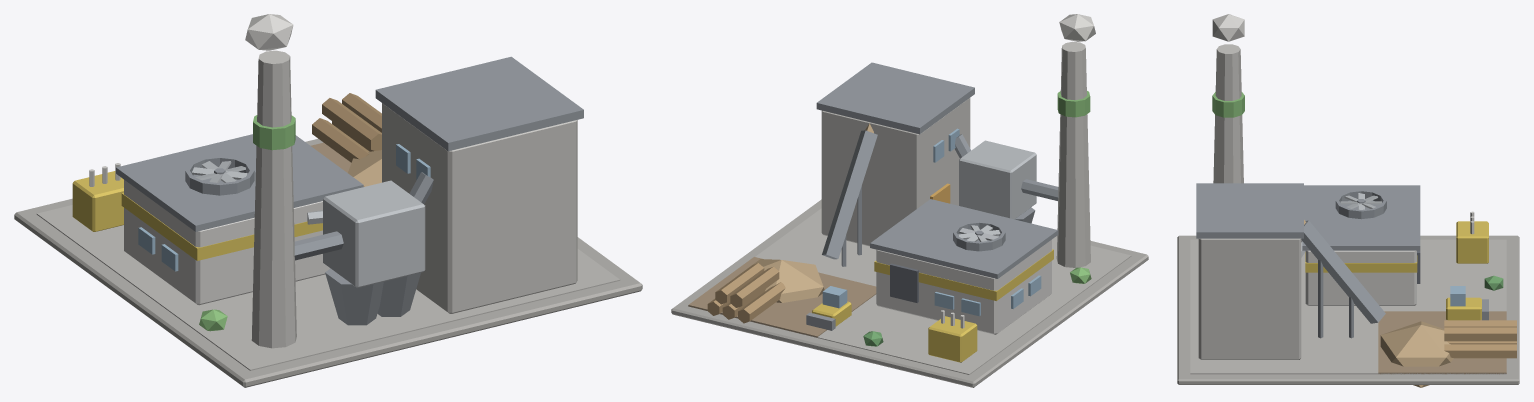
The model's file is energia__usina_biomassa.glb.
3 renders of one model, left to right at view 1: azimuth 30°, elevation 25°; view 2: azimuth 150°, elevation 25°; view 3: azimuth 270°, elevation 25°, orthographic. The views are drawn at different scales.
Parts seen in each view (by area): view 1: energia__usina_biomassa; view 2: energia__usina_biomassa; view 3: energia__usina_biomassa.
Boxes of the visible parts, x1,y1,x2,y2 form: energia__usina_biomassa: (14, 14, 642, 387); energia__usina_biomassa: (671, 14, 1148, 387); energia__usina_biomassa: (1177, 14, 1519, 387).
Size of the model in its own units: 4 by 3.56 by 4.
